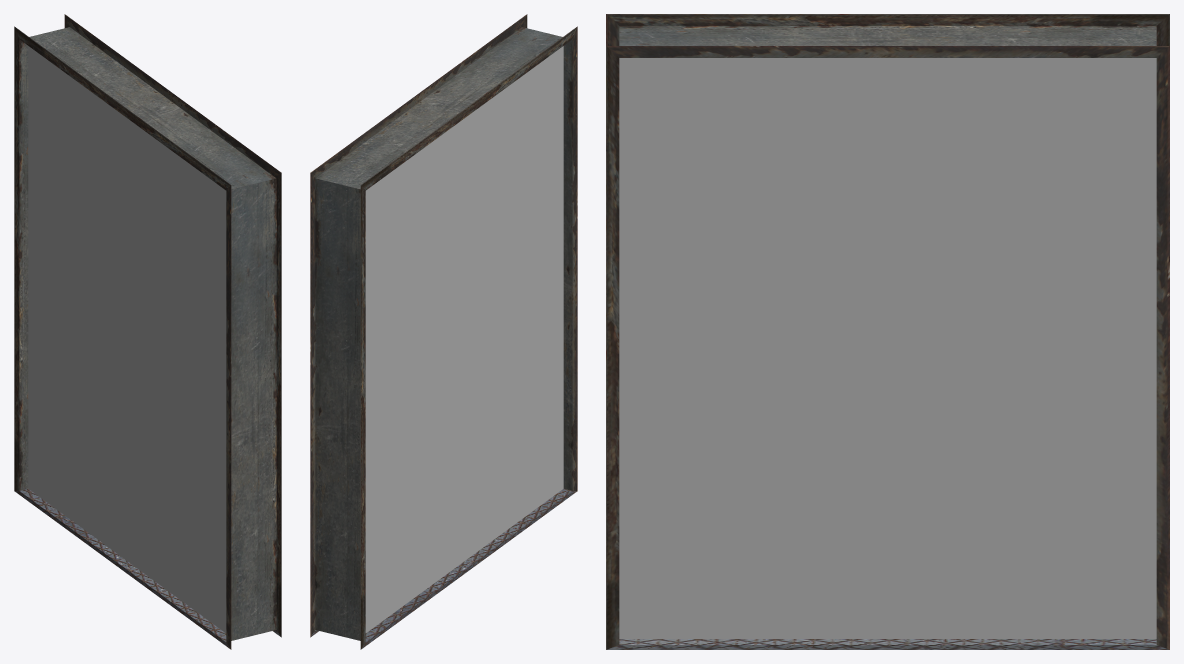
Rendered from DoorFrameClosedA.FBX.
3 renders of one model, left to right at view 1: azimuth 30°, elevation 25°; view 2: azimuth 150°, elevation 25°; view 3: azimuth 270°, elevation 25°, orthographic. The views are drawn at different scales.
Parts seen in each view (by area): view 1: DoorFrameClosedA; view 2: DoorFrameClosedA; view 3: DoorFrameClosedA.
Boxes of the visible parts, bbox=[...] form: DoorFrameClosedA: bbox=[14, 14, 281, 649]; DoorFrameClosedA: bbox=[310, 14, 577, 649]; DoorFrameClosedA: bbox=[606, 14, 1169, 649].
Bounding box in the file's own units: 36.83 × 325 × 275.
